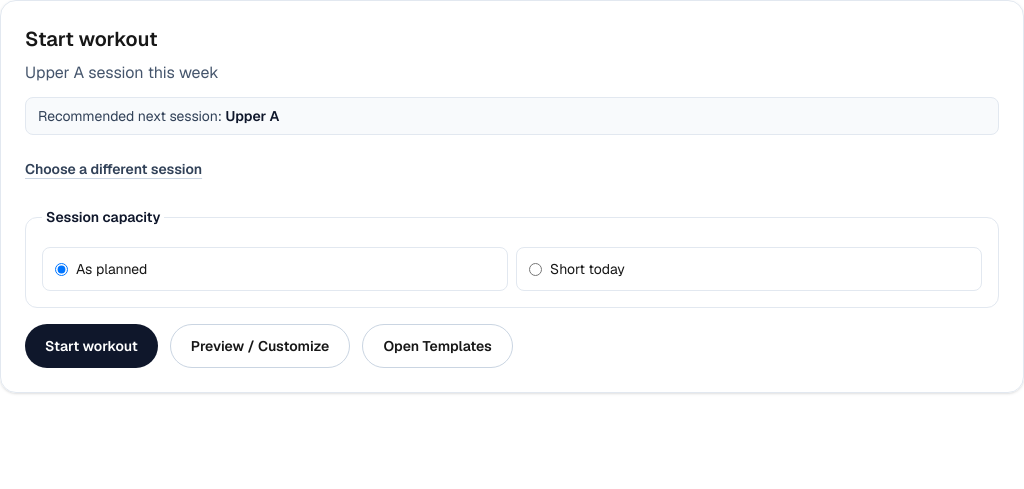
IntentWorkoutCard › shows an error and does not navigate when auto-save fails
Click the button "Start workout" at [91, 346], box [25, 324, 158, 368]
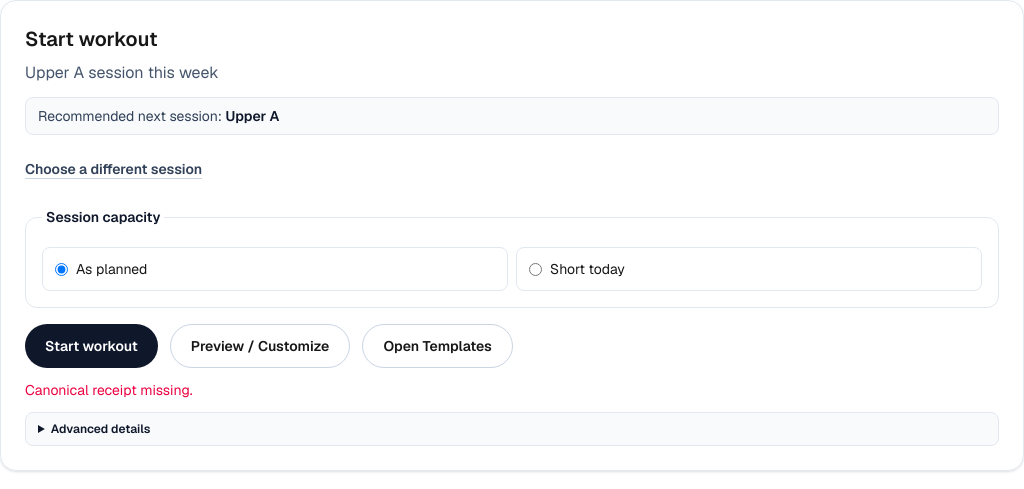
expect the text "Canonical receipt missing." is shown: met, box [25, 381, 193, 399]
